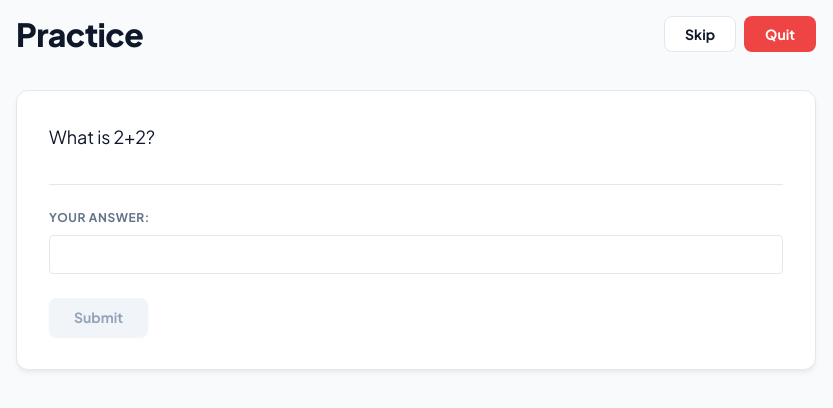
Test: ActivePracticePage › next button fetches new problem
The image size is (833, 408).
Check: the button with test id "submit-button" is shown, box [49,298,148,337]
Type "4" into the field at (416, 254), box [49,235,783,274]
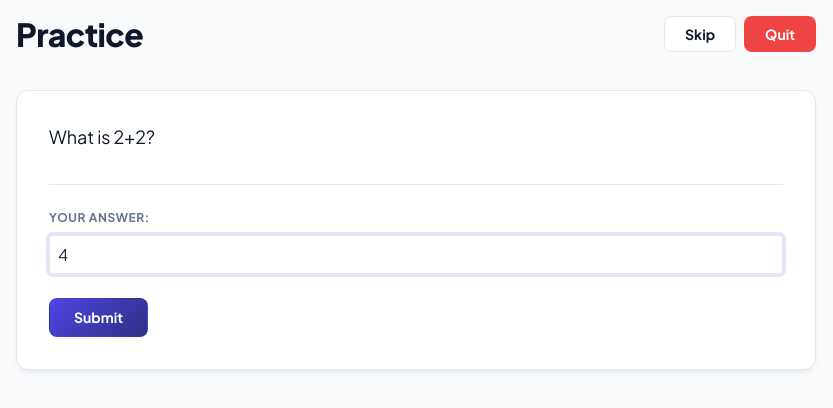
Click the button with test id "submit-button" at (98, 317), box [49,298,148,337]
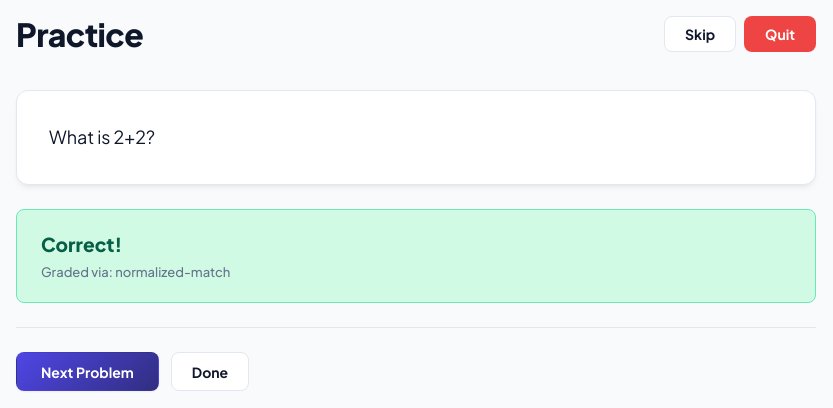
Check: the button with test id "next-button" is shown
Click the button with test id "next-button" at (87, 372), box [16,352,159,391]
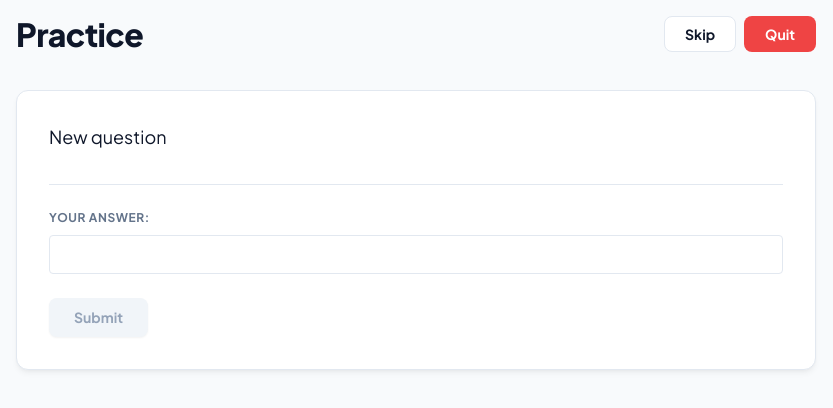
Check: the text "New question" is shown, box [49,125,166,148]
